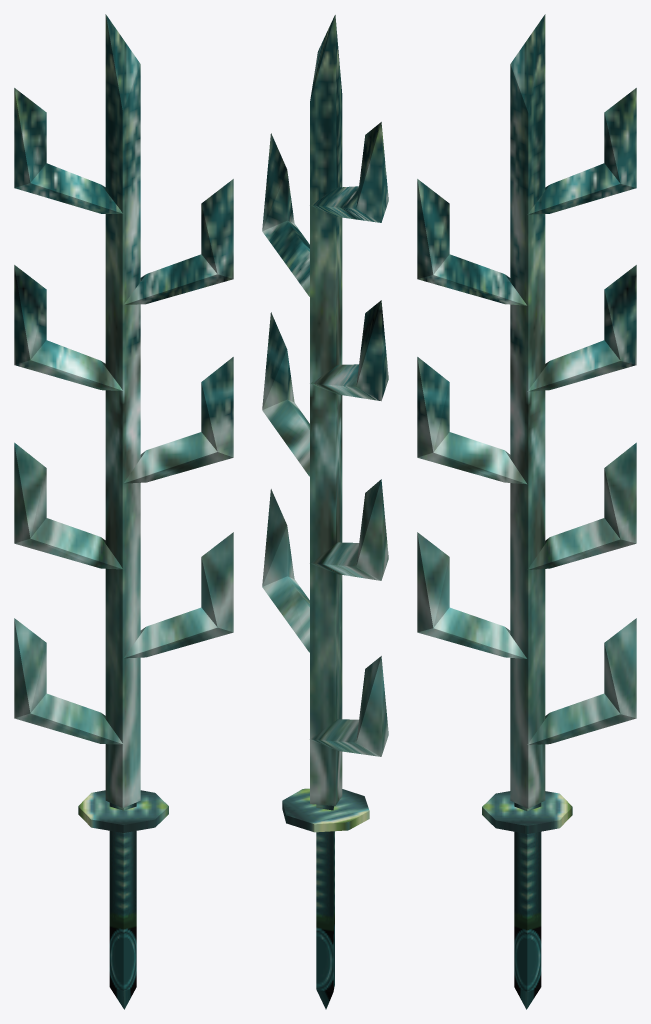
The model's file is blademaster04_4.obj.
3 renders of one model, left to right at view 1: azimuth 90°, elevation 25°; view 2: azimuth 210°, elevation 25°; view 3: azimuth 270°, elevation 25°, orthographic.
Visible parts, largest first — view 1: blademaster04_4; view 2: blademaster04_4; view 3: blademaster04_4.
Part boxes in pixels (left/top/right/bottom): blademaster04_4: left=14, top=14, right=233, bottom=1009; blademaster04_4: left=262, top=15, right=388, bottom=1009; blademaster04_4: left=417, top=14, right=636, bottom=1009.
Bounding box in the file's own units: 0.1388 × 1.7 × 0.3388.
